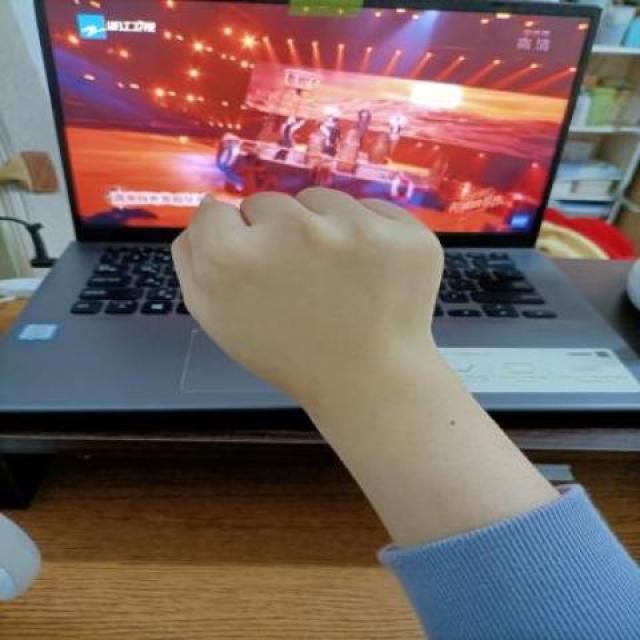Closed Hand: (162, 183, 474, 417)
